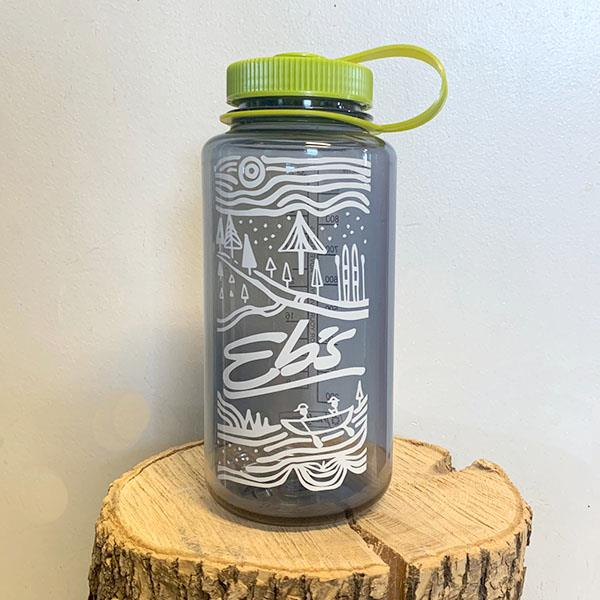waterbottle: (198, 42, 450, 530)
